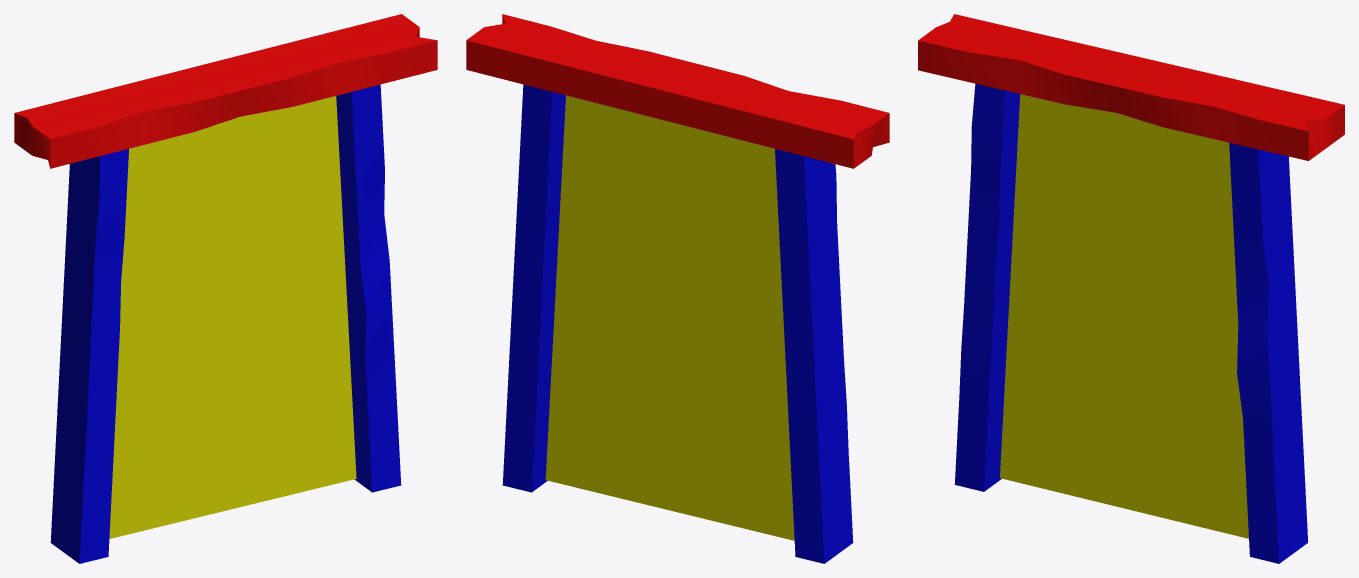
File: Entree.fbx
3 renders of one model, left to right at view 1: azimuth 30°, elevation 25°; view 2: azimuth 150°, elevation 25°; view 3: azimuth 330°, elevation 25°, orthographic.
Visible parts, largest first — view 1: pCube3, pCube2, polySurface3, polySurface2; view 2: pCube3, pCube2, polySurface3, polySurface2; view 3: pCube3, pCube2, polySurface2, polySurface3.
Boxes of the visible parts, x1=… form: pCube3: x1=109, y1=96, x2=356, y2=538; pCube2: x1=14, y1=14, x2=437, y2=168; polySurface3: x1=50, y1=149, x2=128, y2=563; polySurface2: x1=336, y1=84, x2=401, y2=492; pCube3: x1=545, y1=95, x2=794, y2=540; pCube2: x1=466, y1=14, x2=889, y2=168; polySurface3: x1=775, y1=149, x2=853, y2=563; polySurface2: x1=502, y1=84, x2=565, y2=492; pCube3: x1=1000, y1=94, x2=1248, y2=538; pCube2: x1=918, y1=14, x2=1344, y2=160; polySurface2: x1=1229, y1=142, x2=1307, y2=563; polySurface3: x1=954, y1=83, x2=1020, y2=491.
Bounding box in the file's own units: 12.54 × 13.6 × 2.02.
